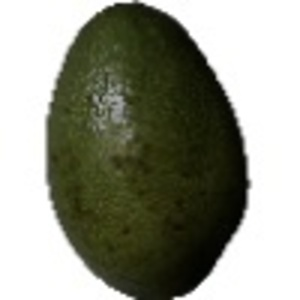abacate: (32, 1, 255, 300)
